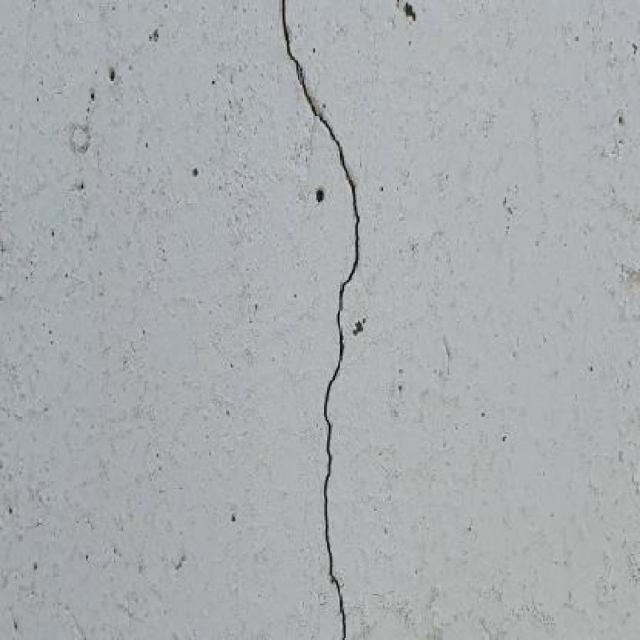vertical crack: (281, 1, 359, 638)
